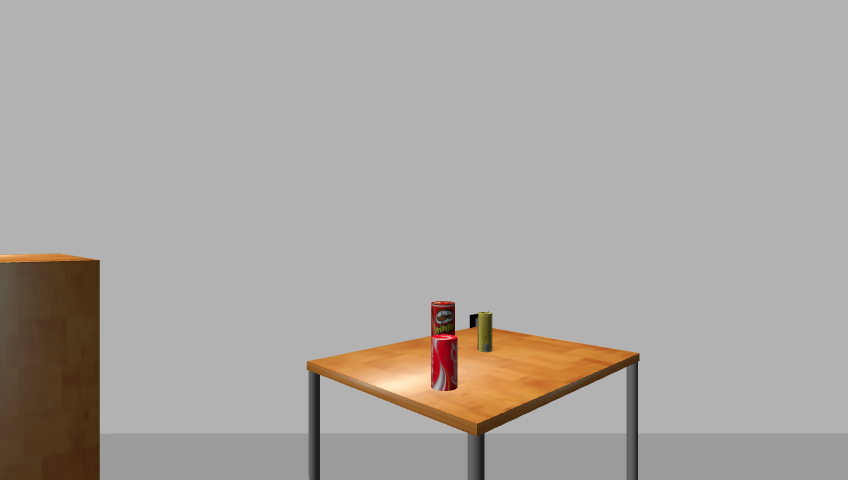aruco marker: (457, 312, 495, 333)
biscuits pack: (478, 312, 494, 354)
bookshelf: (0, 252, 108, 480)
coke can: (428, 335, 459, 392)
dinner table: (298, 326, 649, 479)
pringles can: (429, 301, 456, 380)
